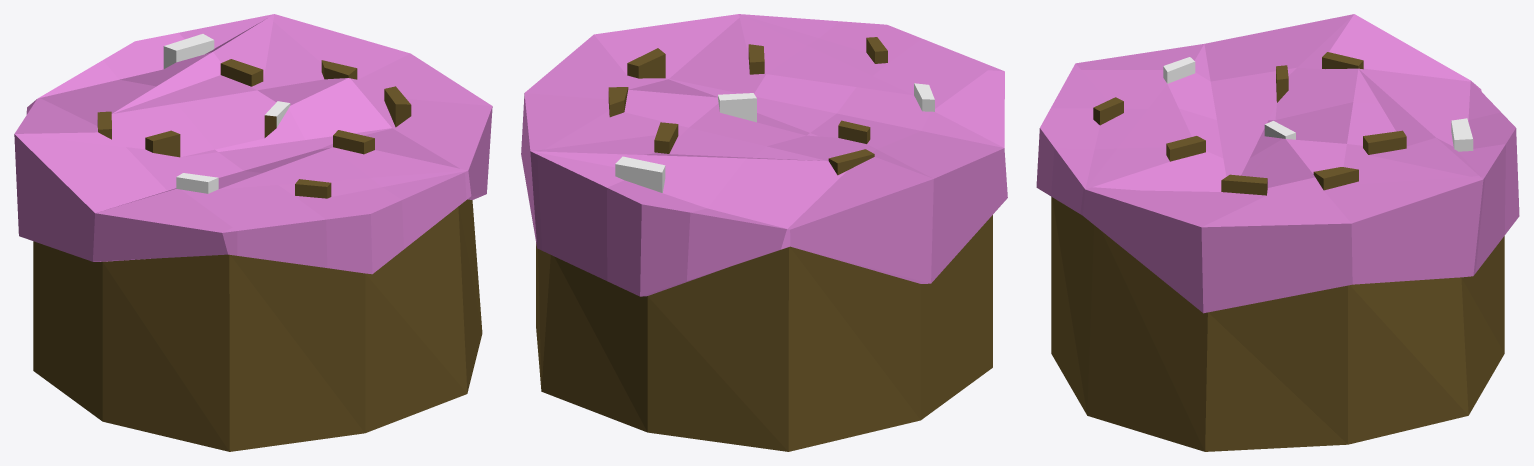
File: cake_2_s.fbx
The picture shows the model from 3 angles, left to right: view 1: azimuth 30°, elevation 25°; view 2: azimuth 150°, elevation 25°; view 3: azimuth 270°, elevation 25°; orthographic projection. The views are drawn at different scales.
Visible parts, largest first — view 1: Cylinder.001, Cylinder, Cylinder.003, Cylinder.002, Cylinder.004; view 2: Cylinder.001, Cylinder, Cylinder.003, Cylinder.002, Cylinder.004; view 3: Cylinder.004, Cylinder.002, Cylinder.003, Cylinder, Cylinder.001.
Boxes of the visible parts, left/top/right/bottom form: Cylinder.001: left=14, top=97, right=237, bottom=451; Cylinder: left=40, top=60, right=327, bottom=451; Cylinder.003: left=103, top=32, right=403, bottom=439; Cylinder.002: left=179, top=15, right=466, bottom=419; Cylinder.004: left=266, top=14, right=492, bottom=394; Cylinder.001: left=781, top=66, right=1007, bottom=451; Cylinder: left=687, top=39, right=992, bottom=451; Cylinder.003: left=607, top=21, right=921, bottom=438; Cylinder.002: left=537, top=14, right=838, bottom=418; Cylinder.004: left=521, top=14, right=743, bottom=392; Cylinder.004: left=1080, top=173, right=1485, bottom=451; Cylinder.002: left=1051, top=135, right=1505, bottom=413; Cylinder.003: left=1036, top=97, right=1519, bottom=373; Cylinder: left=1051, top=58, right=1500, bottom=120; Cylinder.001: left=1072, top=14, right=1481, bottom=91.
Size of the model in its own units: 207 by 119 by 213.
